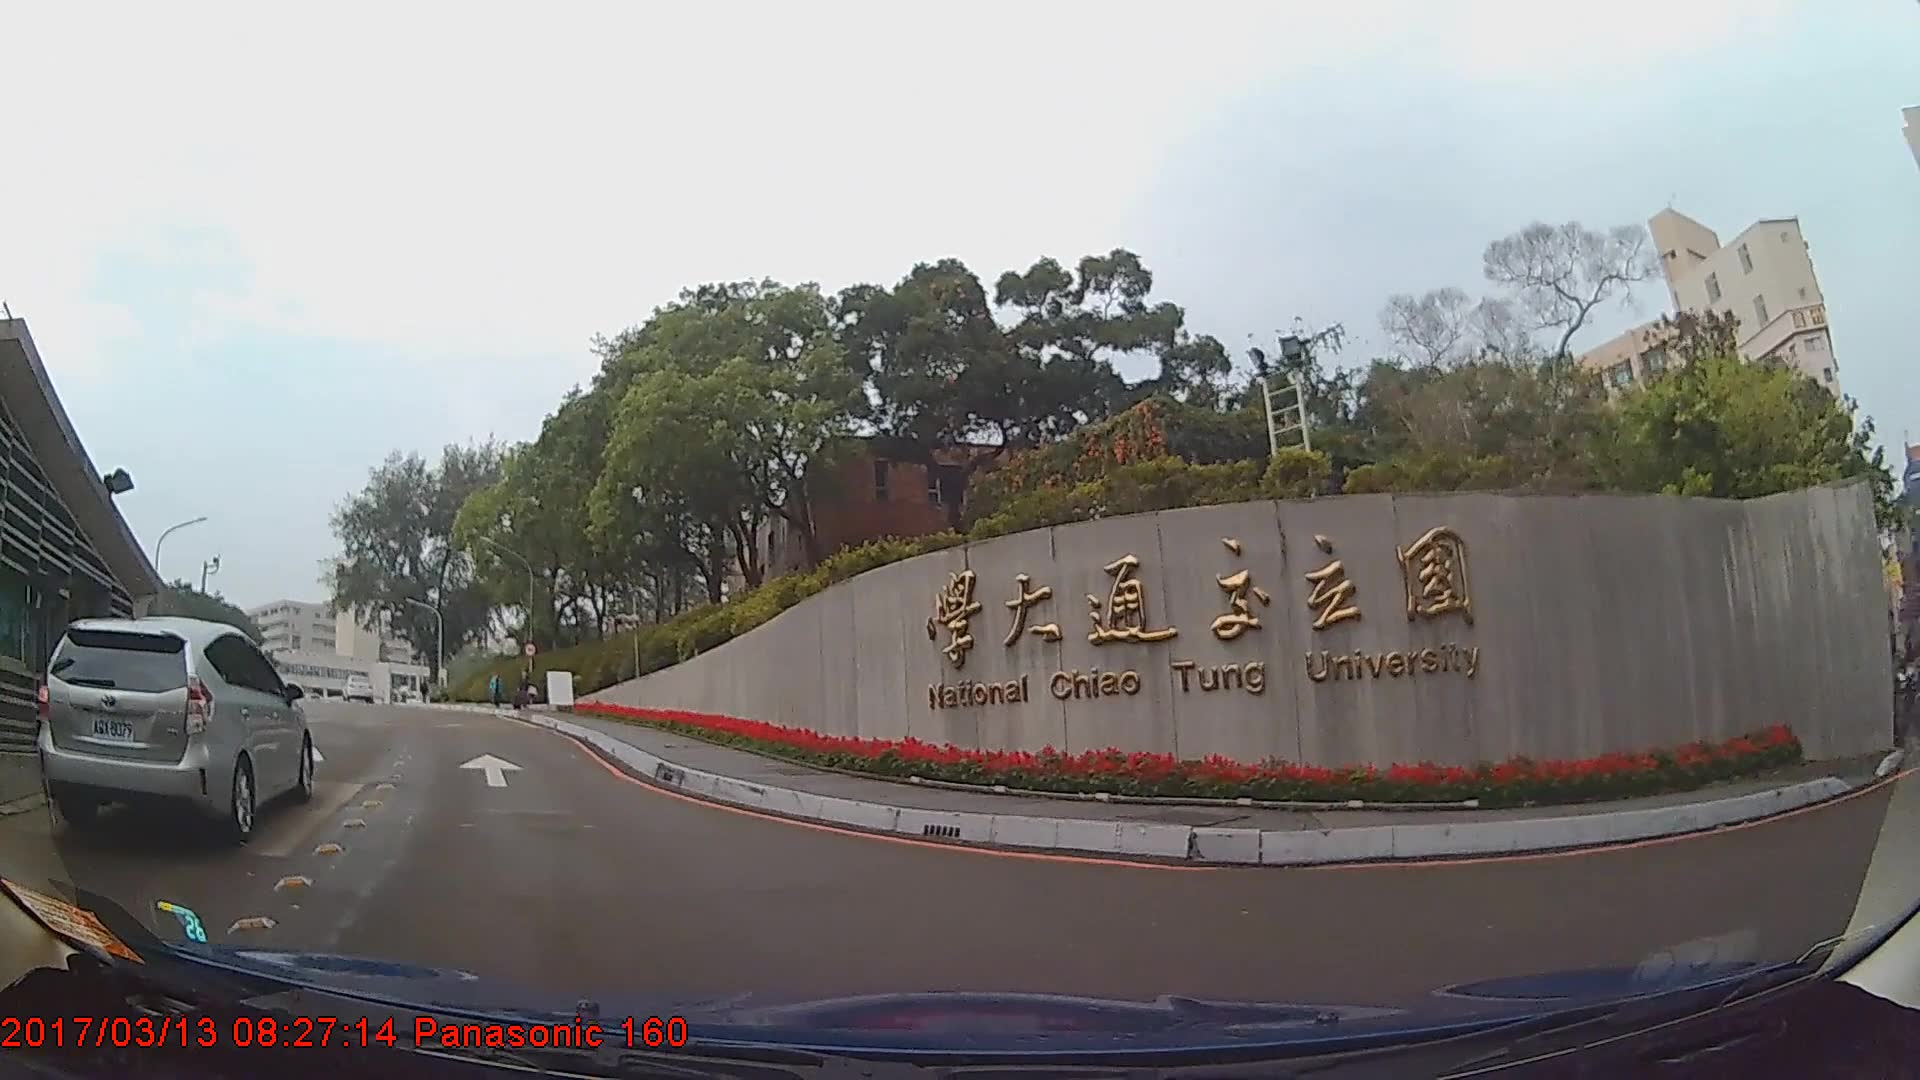vehicle: (37, 613, 315, 848), (342, 674, 375, 704)
